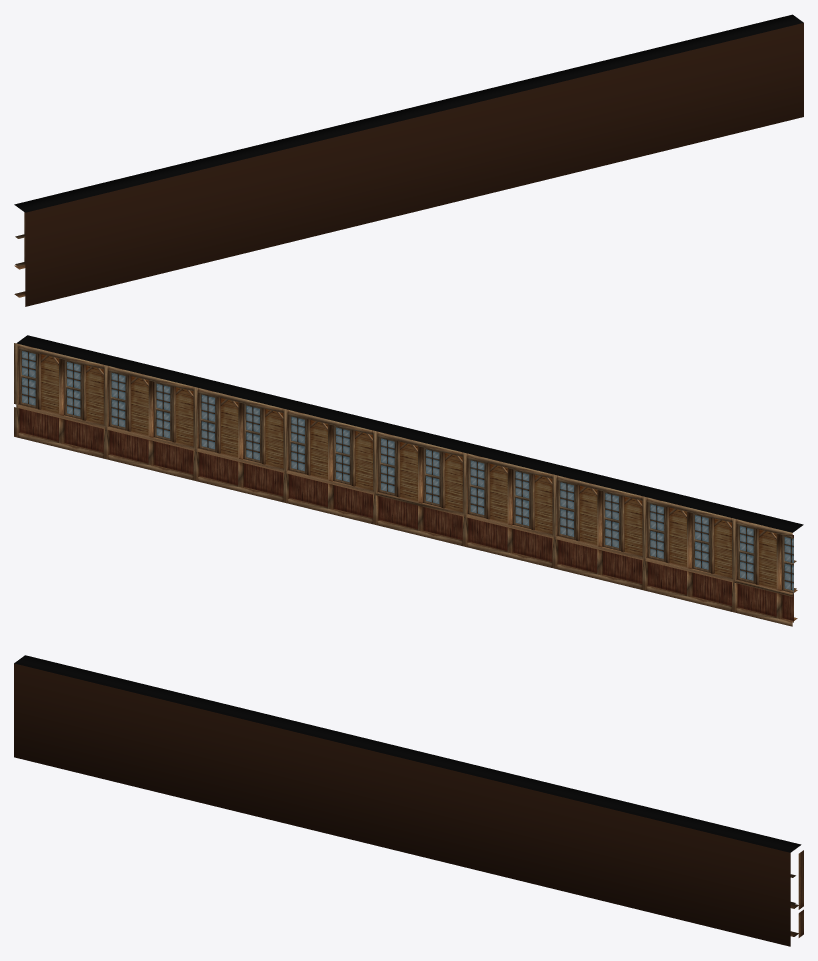
The model's file is s_SWGclass01b_2.glb.
3 renders of one model, top to bottom at view 1: azimuth 30°, elevation 25°; view 2: azimuth 150°, elevation 25°; view 3: azimuth 330°, elevation 25°, orthographic.
Visible parts, largest first — view 1: s_SWGclass01b_2; view 2: s_SWGclass01b_2; view 3: s_SWGclass01b_2.
Boxes of the visible parts, bbox=[...] form: s_SWGclass01b_2: bbox=[14, 14, 803, 306]; s_SWGclass01b_2: bbox=[14, 335, 803, 626]; s_SWGclass01b_2: bbox=[14, 655, 803, 946].
Size of the model in its own units: 26.04 by 3 by 0.6502.
3 materials, 3 textured.
